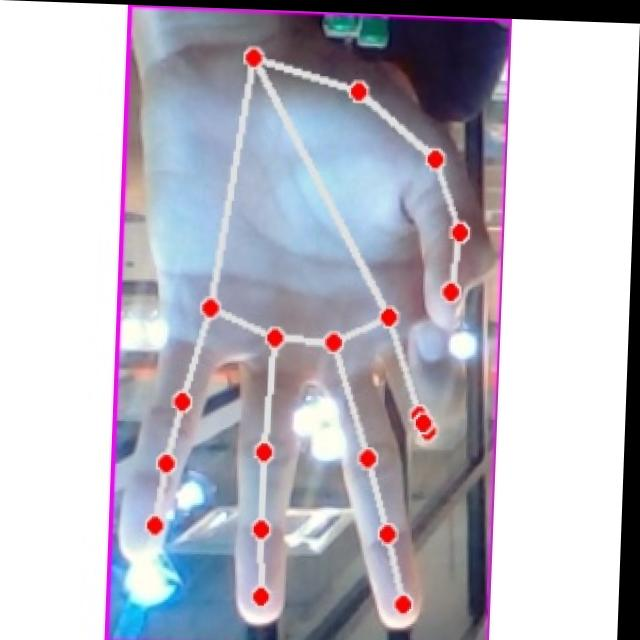F: (120, 32, 497, 633)
